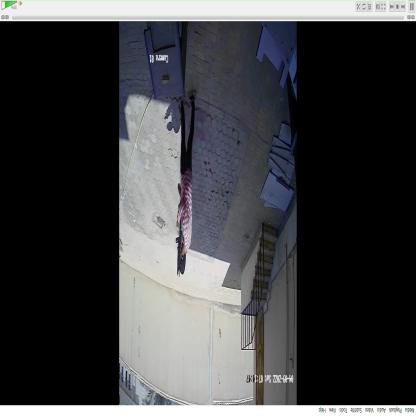handgun: (171, 186, 185, 284)
